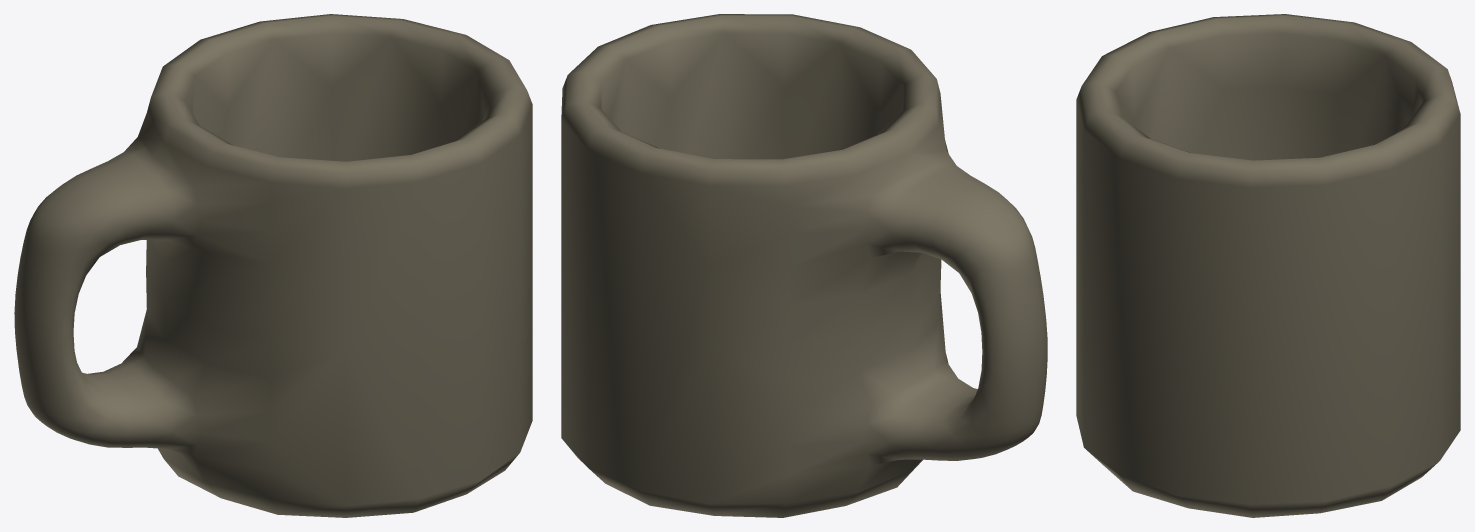
File: mug.fbx
3 renders of one model, left to right at view 1: azimuth 30°, elevation 25°; view 2: azimuth 150°, elevation 25°; view 3: azimuth 270°, elevation 25°, orthographic.
Parts seen in each view (by area): view 1: mug:pCylinder1; view 2: mug:pCylinder1; view 3: mug:pCylinder1.
Boxes of the visible parts, x1,y1,x2,y2 form: mug:pCylinder1: (14, 14, 532, 517); mug:pCylinder1: (561, 14, 1047, 517); mug:pCylinder1: (1076, 14, 1460, 517).
Size of the model in its own units: 23.75 by 16.91 by 17.58.
1 material, 1 textured.
